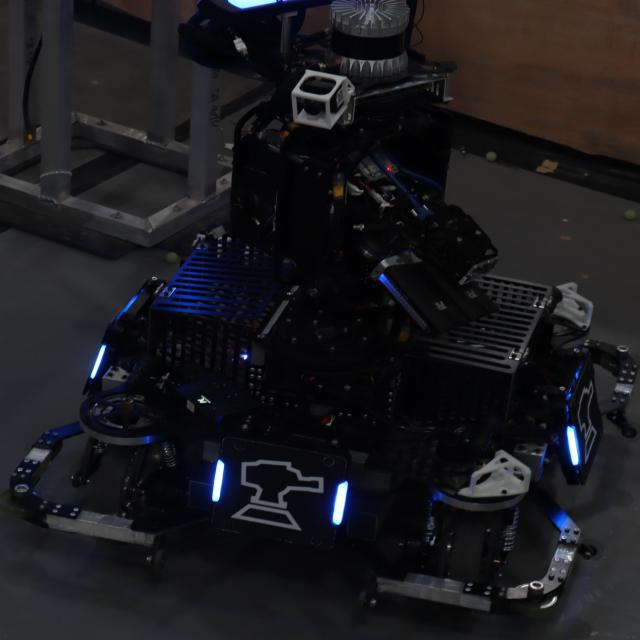Bs: (209, 455, 347, 530), (564, 374, 604, 474)
